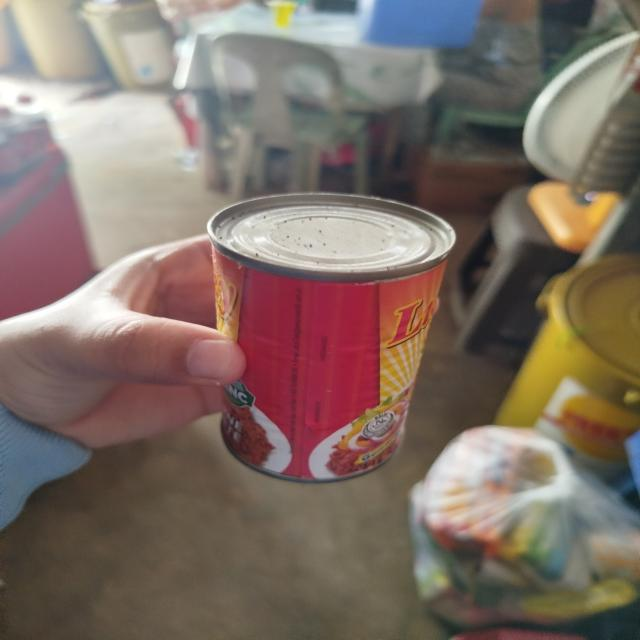metal: (196, 170, 452, 495)
residual: (388, 421, 640, 630)
